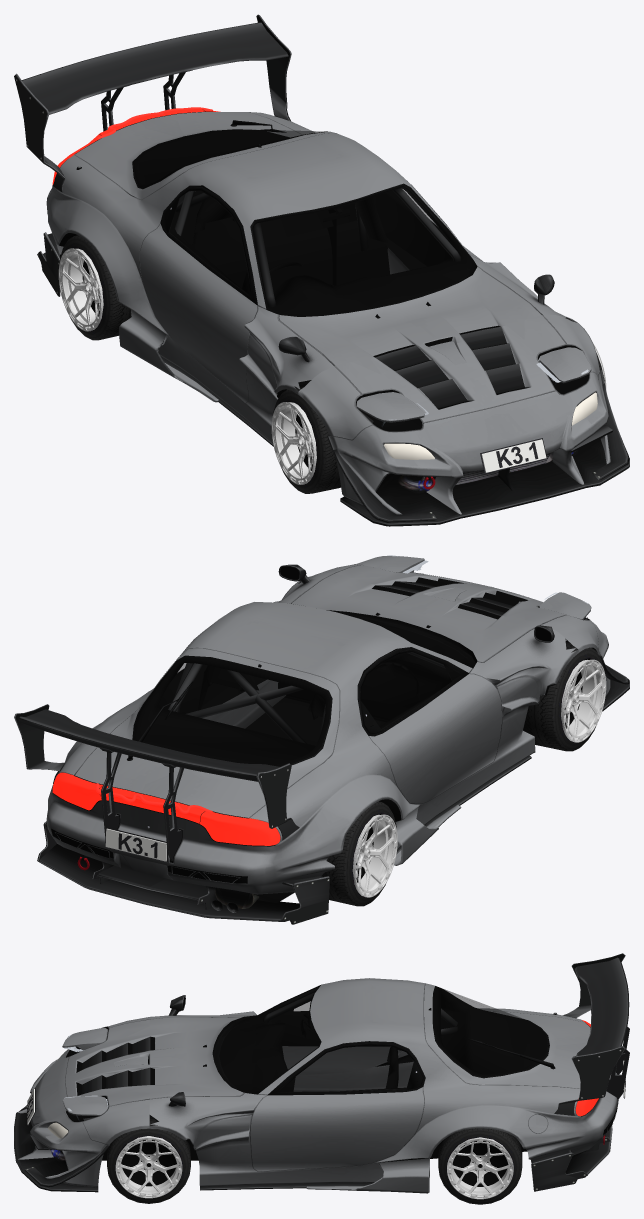
Rendered from exterior.glb.
3 views of the same model, one above another, from view 1: azimuth 30°, elevation 25°; view 2: azimuth 150°, elevation 25°; view 3: azimuth 270°, elevation 25° (orthographic). The views are drawn at different scales.
Visible parts, largest first — view 1: EXT-036:Windows, EXT-030:Aero_Kit, EXT-035:Body_Shell, EXT-021:NoseOriginal_Surface, EXT-013:Aero_Kit, EXT-024:Body_Shell, EXT-021:Hood_Details, EXT-030:Body_Shell, EXT-024:NoseOriginal_Surface, EXT-037:Aero_Kit, EXT-027:Aero_Kit, EXT-024:Aero_Kit (+22 smaller); view 2: EXT-030:Aero_Kit, EXT-018:Windows, EXT-035:Body_Shell, EXT-013:Aero_Kit, EXT-025:Aero_Kit, EXT-030:Body_Shell, EXT-027:Aero_Kit, EXT-021:Hood_Details, EXT-025:Body_Shell, EXT-015:Aero_Kit, EXT-017:Windows, EXT-034:Aero_Kit (+27 smaller); view 3: EXT-030:Aero_Kit, EXT-012:Aero_Kit, EXT-035:Body_Shell, EXT-026:Aero_Kit, EXT-018:Windows, EXT-036:Windows, EXT-030:Body_Shell, EXT-021:Hood_Details, EXT-014:Aero_Kit, EXT-021:NoseOriginal_Surface, EXT-016:Windows, EXT-028:Aero_Kit (+24 smaller).
Part boxes in pixels (bbox=[...]): EXT-036:Windows: bbox=[252, 185, 470, 316]; EXT-030:Aero_Kit: bbox=[68, 118, 518, 342]; EXT-035:Body_Shell: bbox=[59, 120, 500, 396]; EXT-021:NoseOriginal_Surface: bbox=[334, 315, 566, 423]; EXT-013:Aero_Kit: bbox=[114, 233, 268, 408]; EXT-024:Body_Shell: bbox=[332, 384, 629, 526]; EXT-021:Hood_Details: bbox=[277, 266, 542, 374]; EXT-030:Body_Shell: bbox=[134, 122, 477, 316]; EXT-024:NoseOriginal_Surface: bbox=[350, 332, 606, 467]; EXT-037:Aero_Kit: bbox=[38, 26, 265, 108]; EXT-027:Aero_Kit: bbox=[42, 148, 148, 300]; EXT-024:Aero_Kit: bbox=[336, 394, 610, 518]; EXT-030:Aero_Kit: bbox=[69, 587, 515, 813]; EXT-018:Windows: bbox=[134, 657, 330, 766]; EXT-035:Body_Shell: bbox=[92, 582, 535, 913]; EXT-013:Aero_Kit: bbox=[378, 668, 522, 844]; EXT-025:Aero_Kit: bbox=[25, 750, 286, 919]; EXT-030:Body_Shell: bbox=[134, 603, 477, 764]; EXT-027:Aero_Kit: bbox=[233, 748, 402, 923]; EXT-021:Hood_Details: bbox=[290, 573, 542, 662]; EXT-025:Body_Shell: bbox=[37, 769, 297, 923]; EXT-015:Aero_Kit: bbox=[483, 624, 579, 774]; EXT-017:Windows: bbox=[361, 652, 451, 728]; EXT-034:Aero_Kit: bbox=[148, 774, 287, 854]; EXT-030:Aero_Kit: bbox=[175, 978, 558, 1103]; EXT-012:Aero_Kit: bbox=[218, 1097, 438, 1177]; EXT-035:Body_Shell: bbox=[102, 1014, 604, 1160]; EXT-026:Aero_Kit: bbox=[424, 1070, 591, 1190]; EXT-018:Windows: bbox=[435, 987, 547, 1076]; EXT-036:Windows: bbox=[219, 985, 319, 1092]; EXT-030:Body_Shell: bbox=[224, 985, 519, 1095]; EXT-021:Hood_Details: bbox=[126, 1017, 244, 1099]; EXT-014:Aero_Kit: bbox=[149, 1097, 256, 1186]; EXT-021:NoseOriginal_Surface: bbox=[64, 1019, 150, 1106]; EXT-016:Windows: bbox=[294, 1046, 413, 1091]; EXT-028:Aero_Kit: bbox=[201, 1167, 429, 1193].
Bounding box in the file's own units: 1.97 × 1.23 × 4.52.
17 materials, 9 textured.
